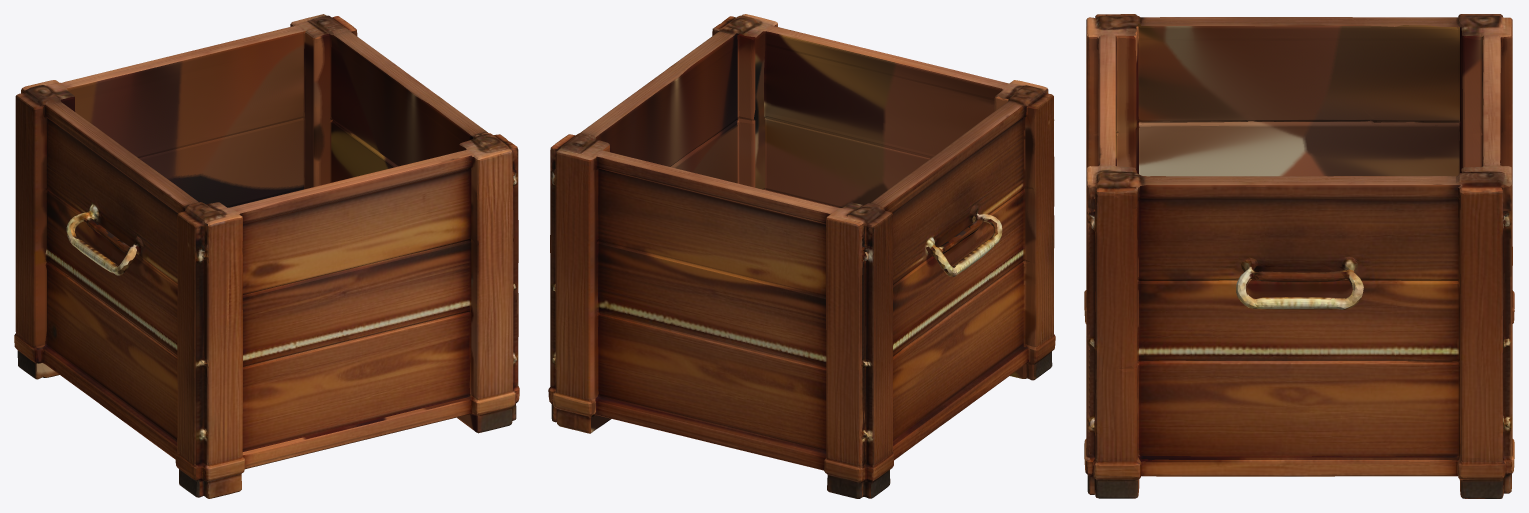
File: traveler_env_coast_smooth_coast_salt_crate_00001_.glb
3 views of the same model, side by side, from view 1: azimuth 30°, elevation 25°; view 2: azimuth 150°, elevation 25°; view 3: azimuth 270°, elevation 25° (orthographic). The views are drawn at different scales.
Visible parts, largest first — view 1: temp_mesh.ply; view 2: temp_mesh.ply; view 3: temp_mesh.ply.
Part boxes in pixels (<box>): temp_mesh.ply: <box>14,14,519,498</box>; temp_mesh.ply: <box>548,14,1055,498</box>; temp_mesh.ply: <box>1084,14,1514,498</box>.
Size of the model in its own units: 1.95 by 1.48 by 1.83.
1 material, 1 textured.
